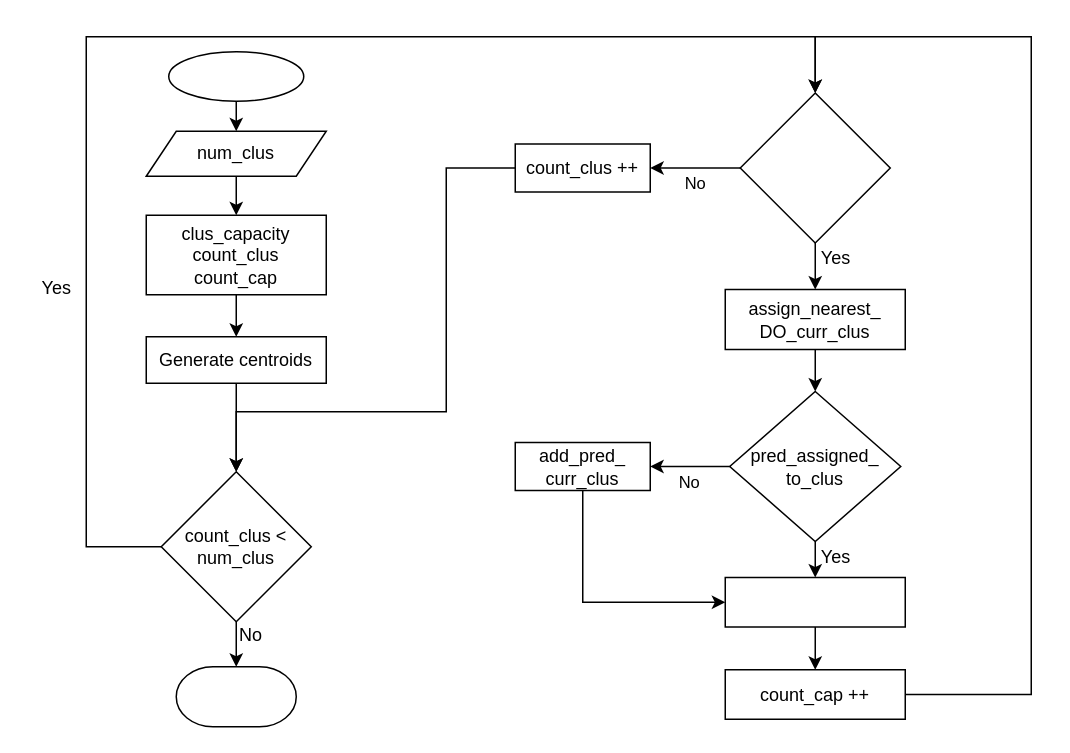
The diagram is 1070 pixels wide and 753 high, and some of its shapes have lost their labels. Each missing label, with the centre of its shape:
"count_cap < clus_capacity" belongs at pixel 814 167.
"End" belongs at pixel 235 696.
"Start" belongs at pixel 235 75.
"update_centroid" belongs at pixel 814 601.
